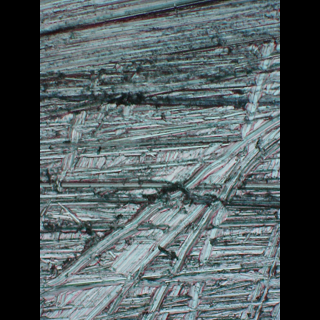d: (51, 108, 279, 319)
